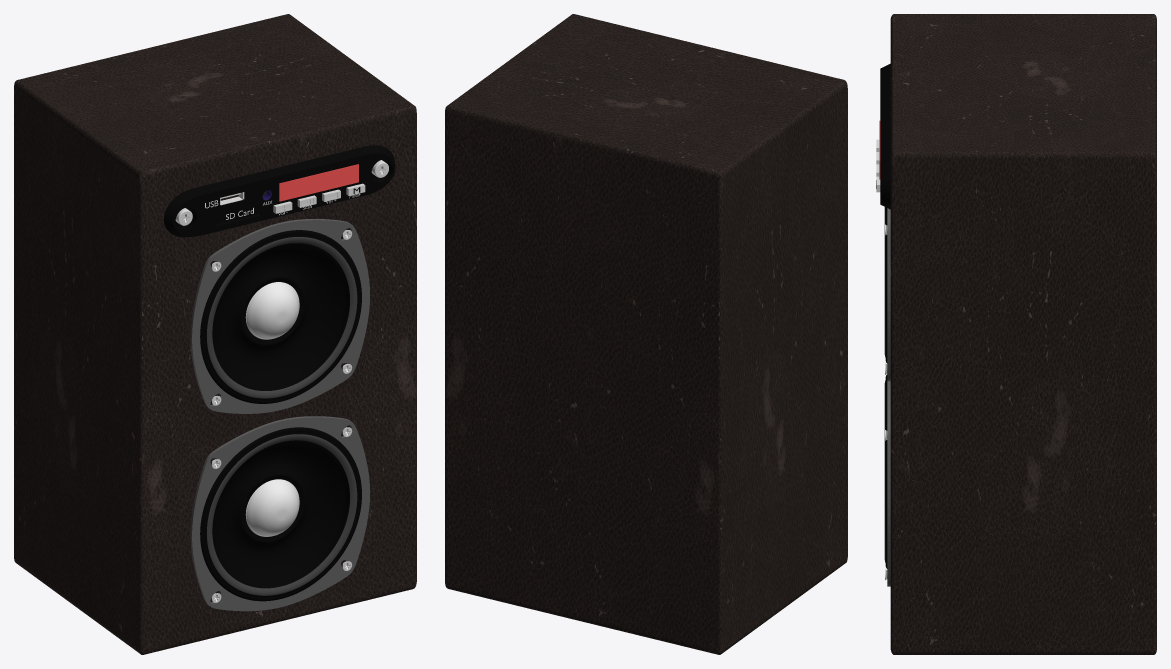
The model's file is speaker.glb.
3 renders of one model, left to right at view 1: azimuth 30°, elevation 25°; view 2: azimuth 150°, elevation 25°; view 3: azimuth 270°, elevation 25°, orthographic. The views are drawn at different scales.
Parts seen in each view (by area): view 1: body_0, speaker_3, speaker.002_6, Circle_11, speaker body_4, speaker body.001_5, Cube.003_12, Cube.008_16; view 2: body_0; view 3: body_0, Circle_11, speaker body_4, speaker_3, speaker body.001_5, speaker.002_6.
Boxes of the visible parts, box(x1,y1,x2,y2) form: body_0: box(14, 14, 416, 654); speaker_3: box(200, 427, 361, 601); speaker.002_6: box(200, 230, 361, 403); Circle_11: box(163, 145, 395, 237); speaker body_4: box(190, 416, 370, 611); speaker body.001_5: box(190, 219, 370, 413); Cube.003_12: box(279, 164, 358, 201); Cube.008_16: box(273, 183, 365, 213); body_0: box(445, 14, 847, 654); body_0: box(890, 14, 1156, 654); Circle_11: box(880, 63, 890, 209); speaker body_4: box(887, 381, 890, 586); speaker_3: box(884, 374, 887, 568); speaker body.001_5: box(887, 208, 890, 381); speaker.002_6: box(884, 207, 887, 363).
Size of what is drawn, in the model's own units: 0.15 by 0.25 by 0.1265.
Materials: 16 (1 with a texture image).
